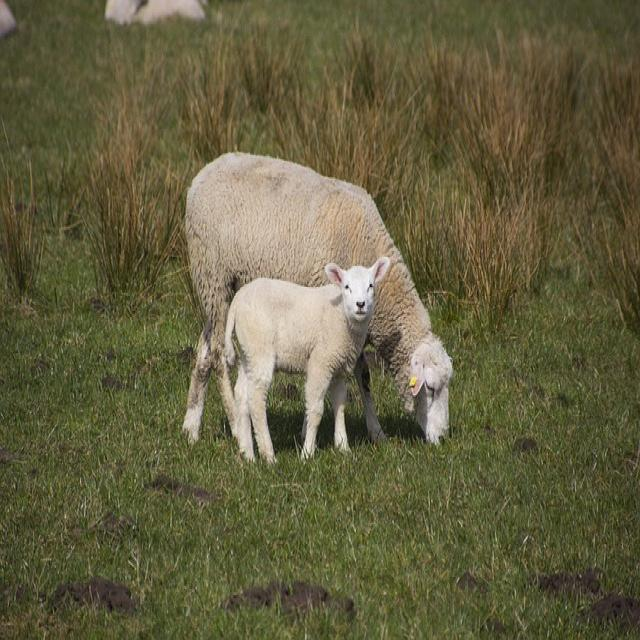sheep: (181, 150, 453, 451), (221, 254, 390, 467)
